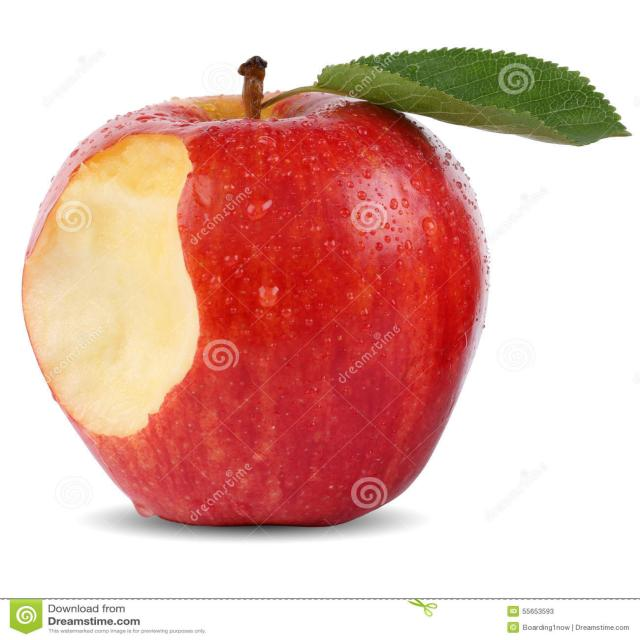apple: (23, 44, 497, 530)
